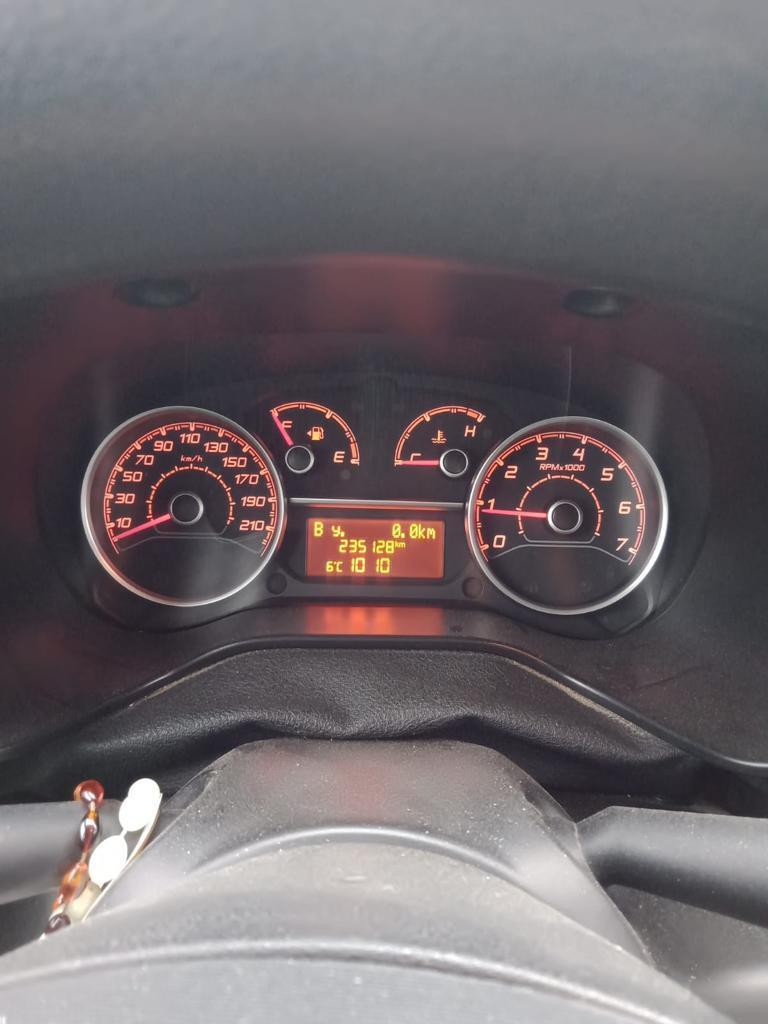,: (339, 530, 345, 538), (399, 532, 405, 539)
0: (380, 557, 391, 573), (356, 557, 365, 572), (391, 522, 400, 537), (409, 523, 418, 538)
1: (375, 557, 379, 573), (350, 558, 354, 572), (372, 540, 376, 553)
2: (376, 539, 385, 553), (339, 539, 347, 553)
3: (348, 538, 357, 554)
5: (357, 537, 365, 553)
6: (326, 559, 333, 572)
8: (386, 539, 394, 553)
X: (313, 520, 323, 537), (418, 522, 426, 539), (426, 526, 435, 539), (331, 524, 339, 537), (336, 560, 344, 572), (399, 541, 406, 548), (394, 539, 399, 548)
odometer: (305, 515, 447, 580)
